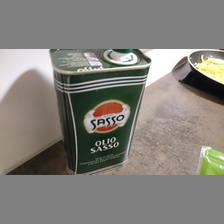oil: (49, 49, 153, 174)
